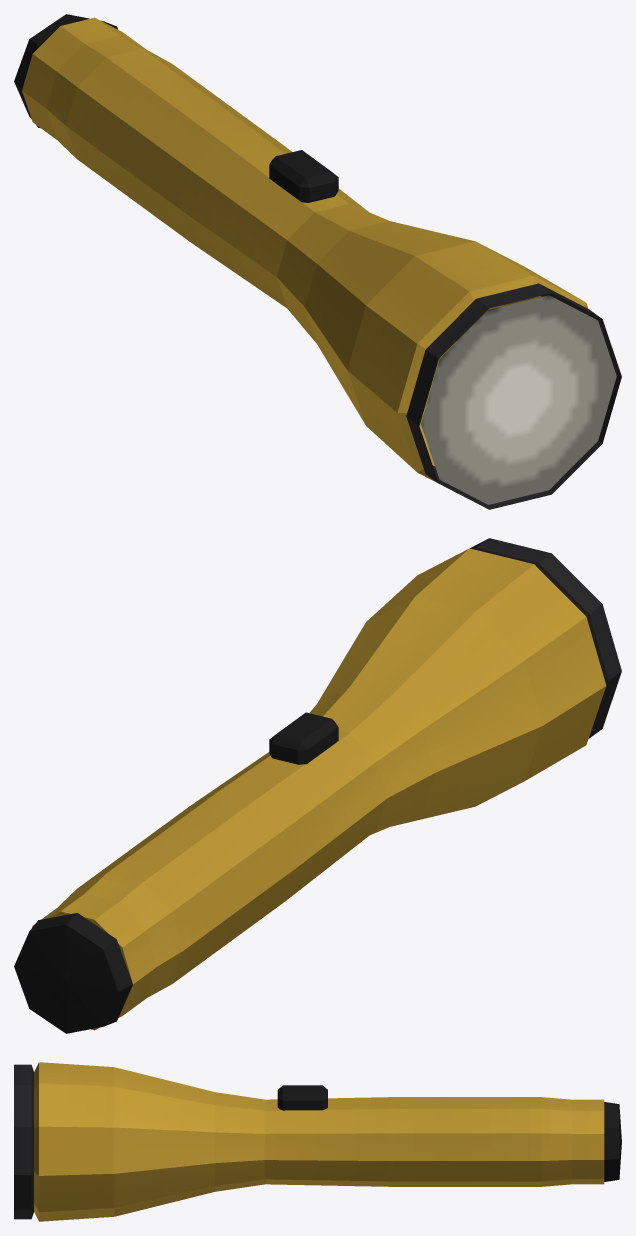
File: PROP_Flashlight_01.fbx
3 renders of one model, top to bottom at view 1: azimuth 30°, elevation 25°; view 2: azimuth 150°, elevation 25°; view 3: azimuth 270°, elevation 25°, orthographic. The views are drawn at different scales.
Parts seen in each view (by area): view 1: PROP_Flashlight_01; view 2: PROP_Flashlight_01; view 3: PROP_Flashlight_01.
Boxes of the visible parts, left/top/right/bottom form: PROP_Flashlight_01: left=14, top=14, right=621, bottom=509; PROP_Flashlight_01: left=14, top=538, right=621, bottom=1033; PROP_Flashlight_01: left=14, top=1062, right=621, bottom=1221.
Bounding box in the file's own units: 0.064 × 0.0609 × 0.242.
4 materials, 4 textured.
